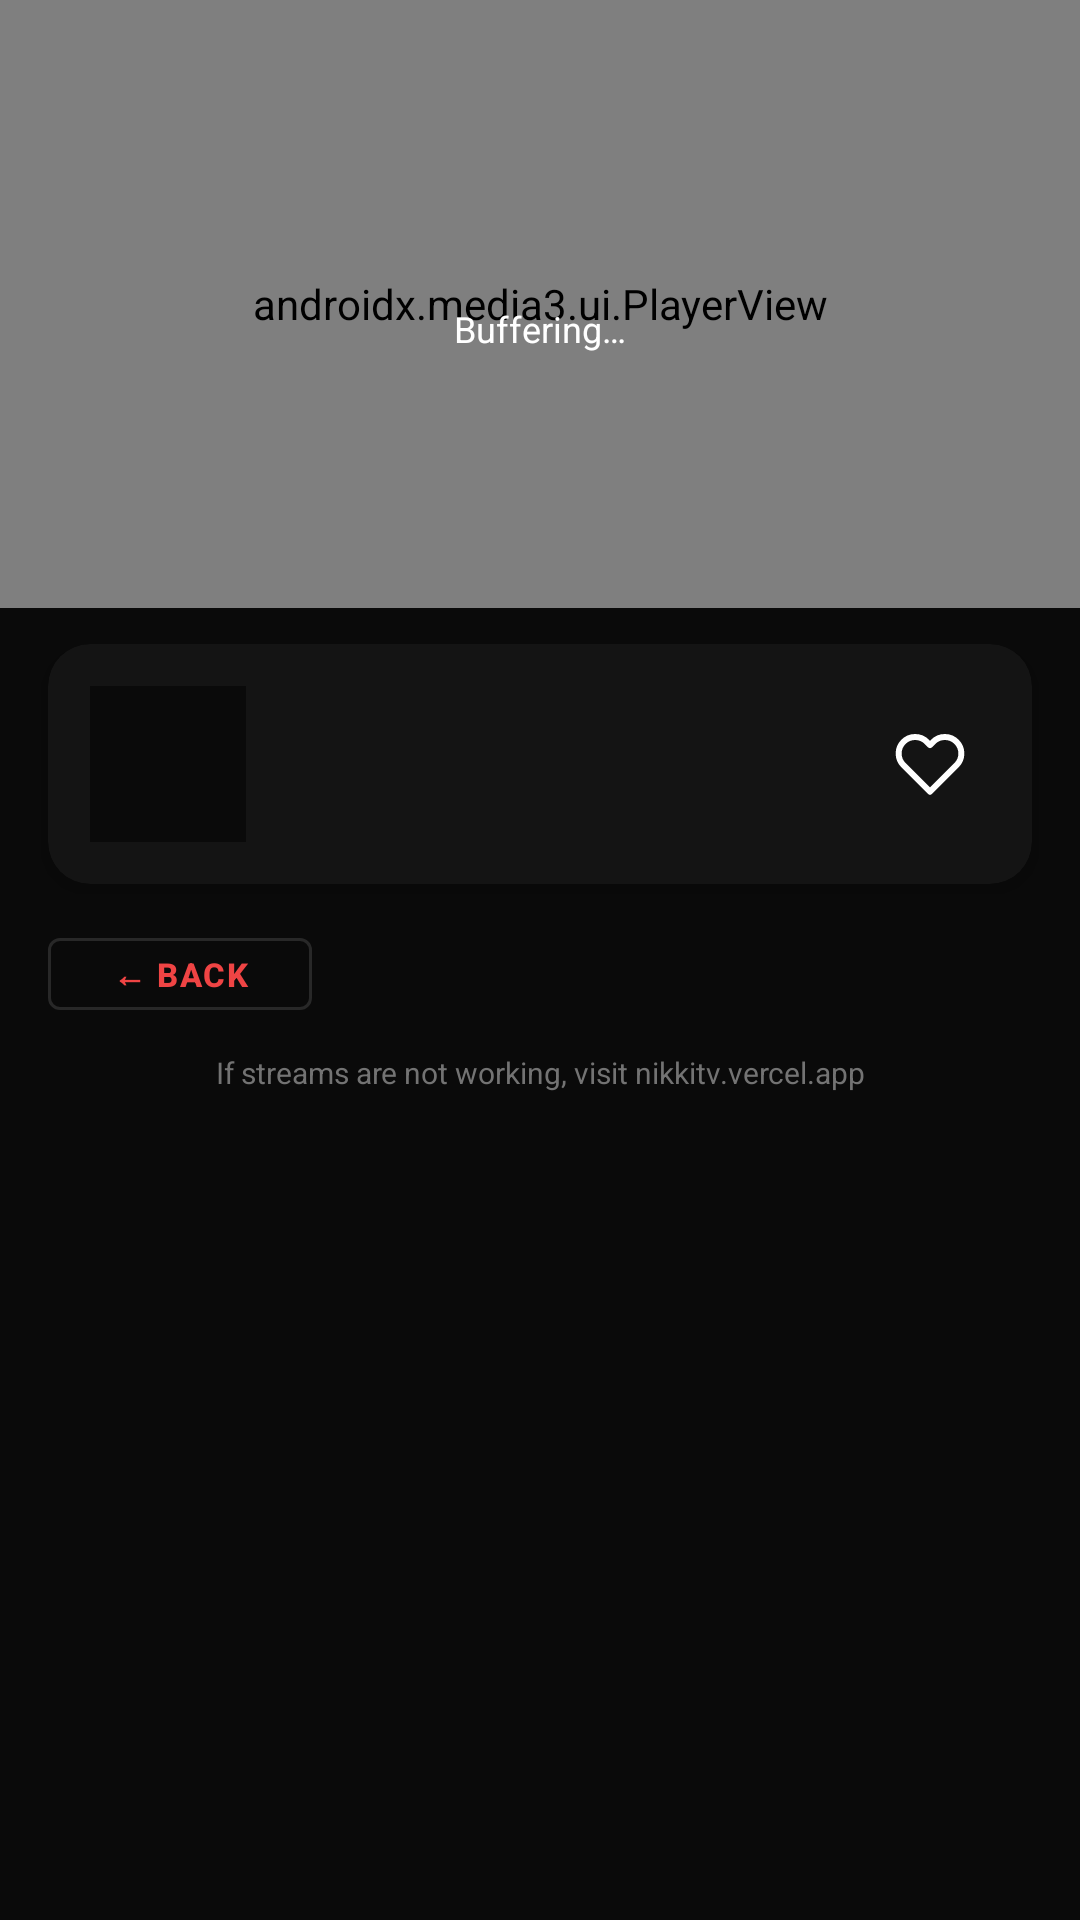

Icon click points for this 1080px x 1920px phone screenshot, format [x,y]:
Toggle Favorite: [930,764]
